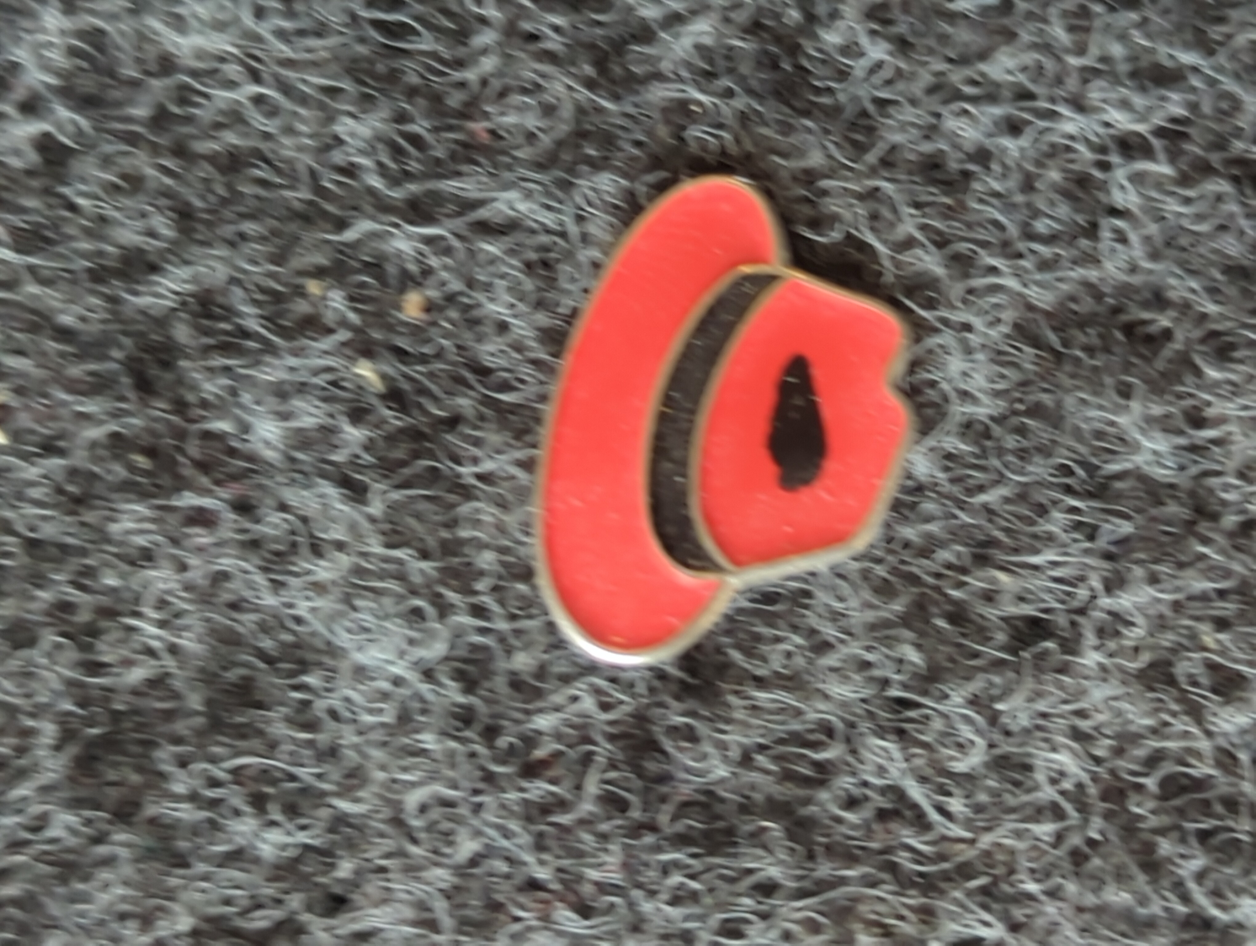Red-Hat: (464, 55, 1026, 777)
Scratch: (707, 282, 894, 531)
